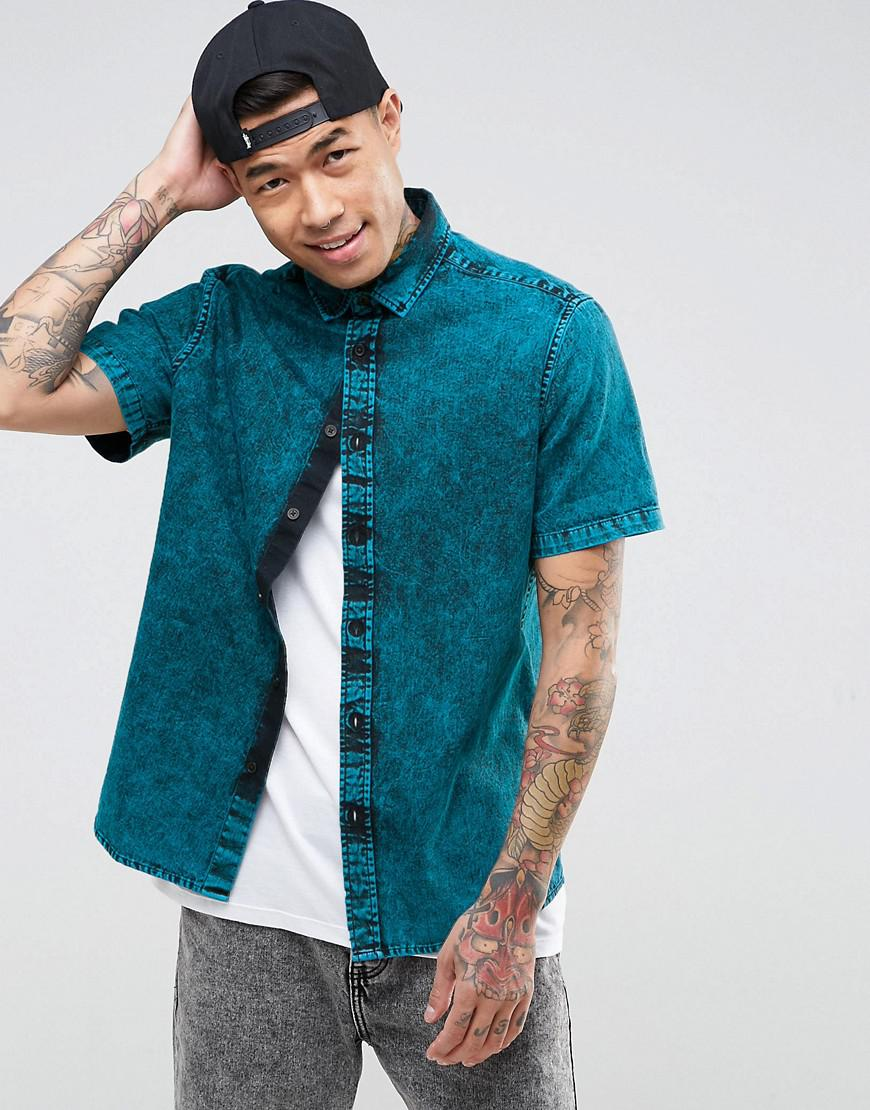teeshirt: (129, 285, 681, 957)
